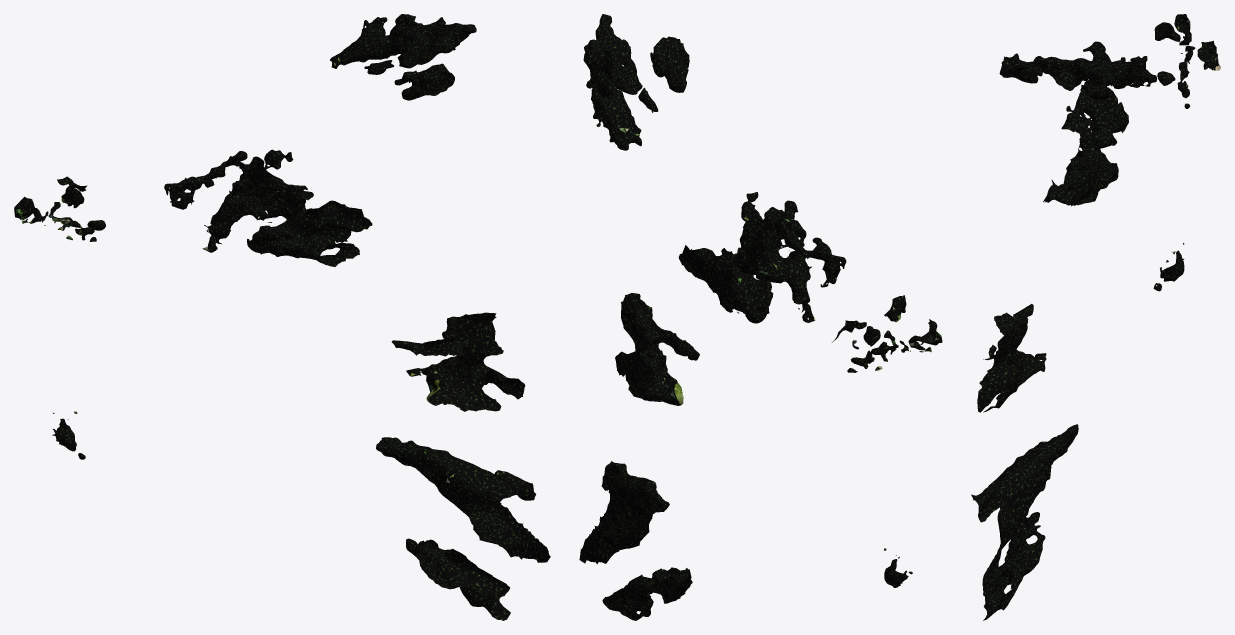
Rendered from FitroyGardenFlowers_lowpoly.obj.
The picture shows the model from 3 angles, left to right: view 1: azimuth 30°, elevation 25°; view 2: azimuth 150°, elevation 25°; view 3: azimuth 270°, elevation 25°; orthographic projection. The views are drawn at different scales.
Bounding box in the file's own units: 5.45 × 6.92 × 2.79.
